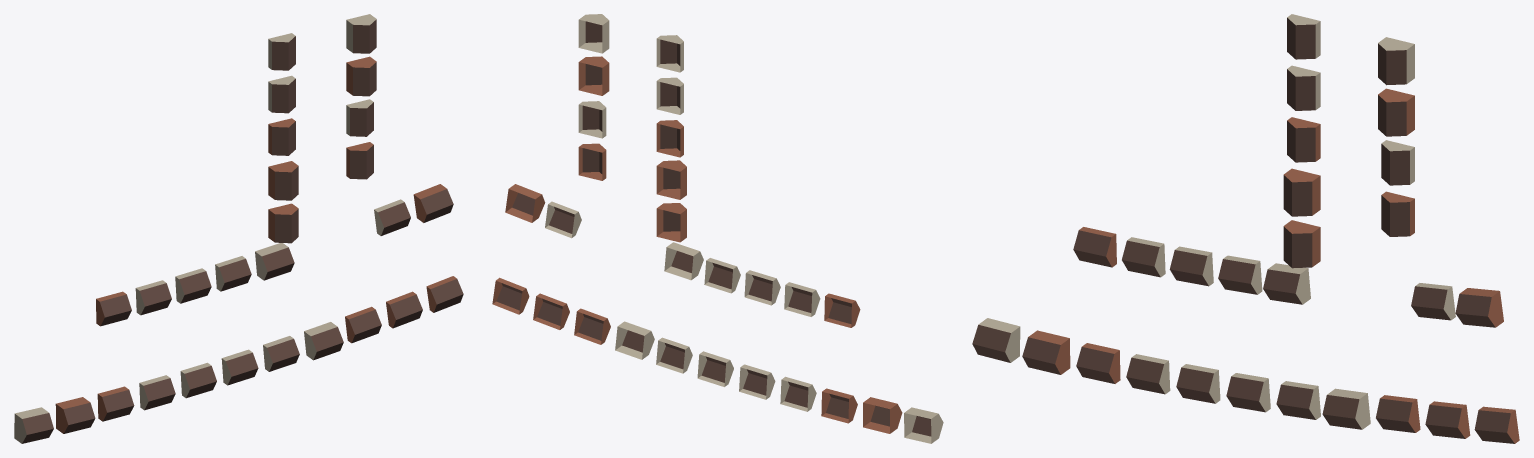
Rendered from island_bldg_21_02.obj.
The picture shows the model from 3 angles, left to right: view 1: azimuth 30°, elevation 25°; view 2: azimuth 150°, elevation 25°; view 3: azimuth 330°, elevation 25°; orthographic projection. The views are drawn at different scales.
Parts seen in each view (by area): view 1: island_bldg_21_02; view 2: island_bldg_21_02; view 3: island_bldg_21_02.
Boxes of the visible parts, x1,y1,x2,y2 form: island_bldg_21_02: (14, 14, 463, 443); island_bldg_21_02: (492, 14, 943, 443); island_bldg_21_02: (972, 14, 1519, 443).
Size of the model in its own units: 260 by 191 by 12.86.
